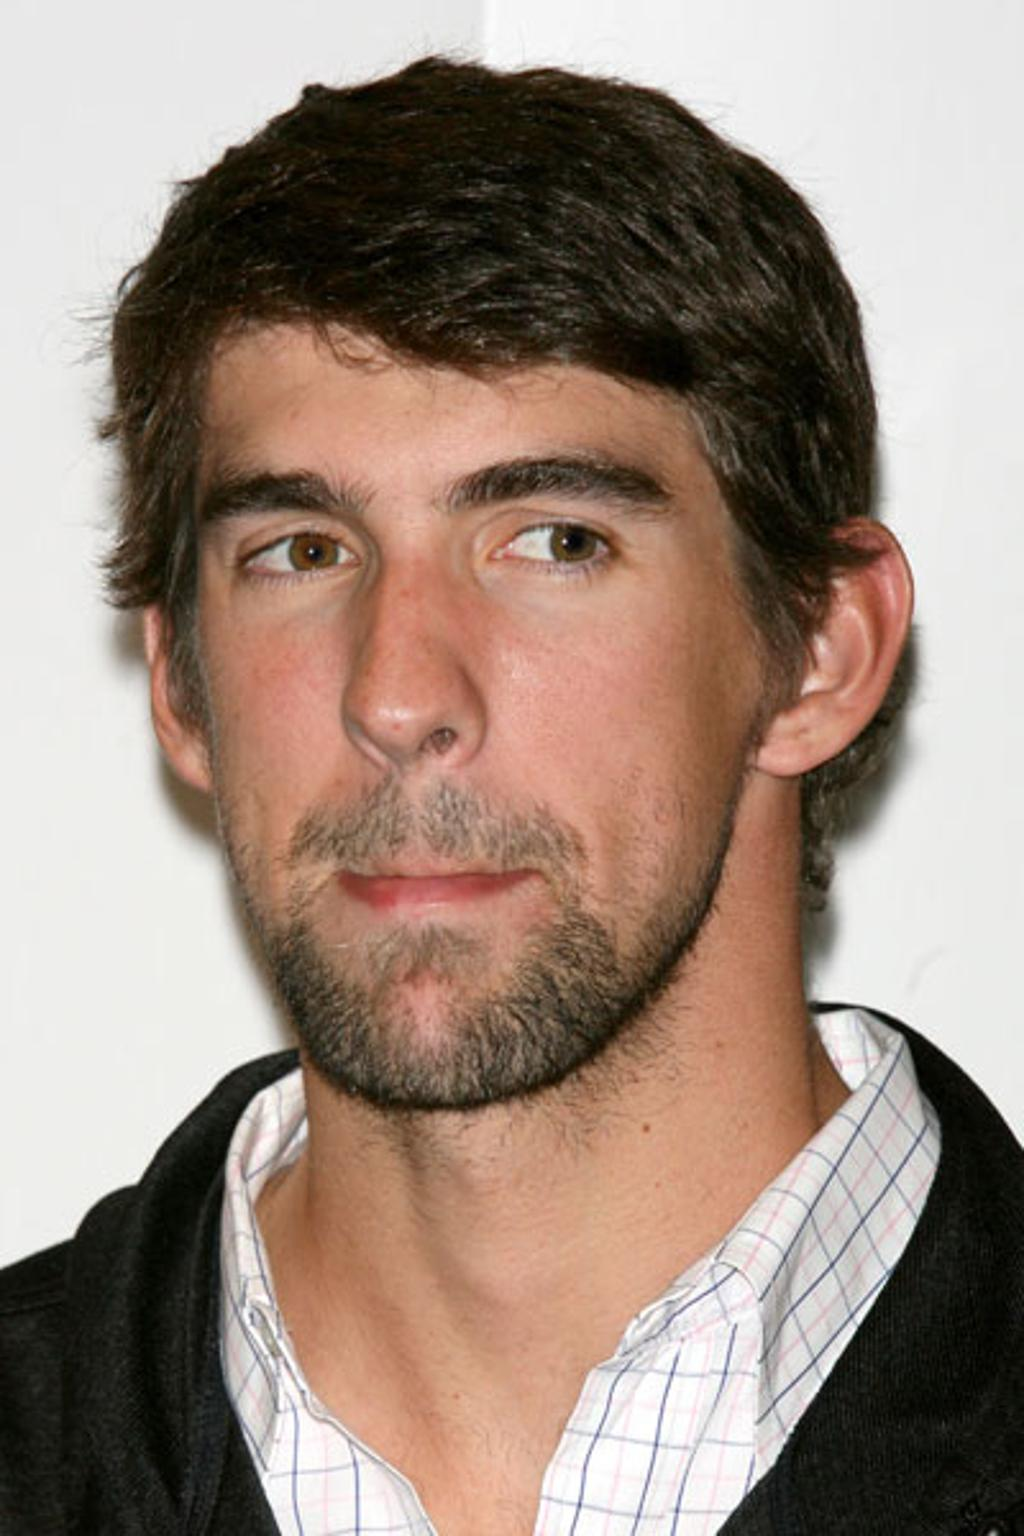face: (168, 351, 781, 1105)
